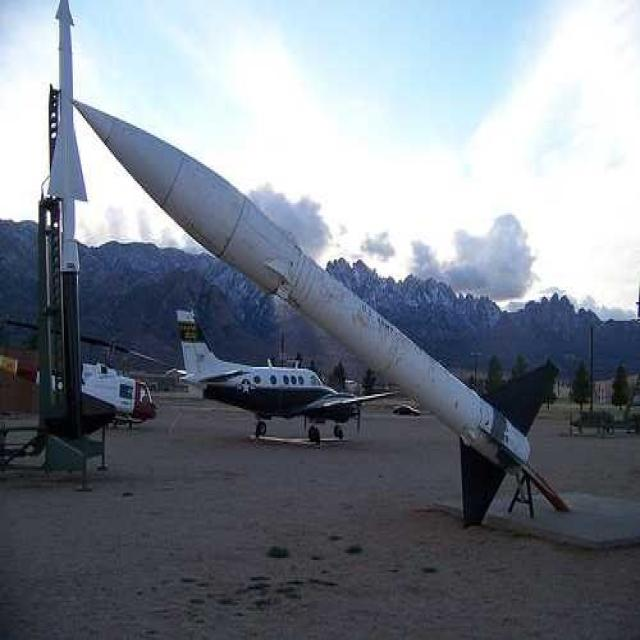missile: (67, 92, 573, 528), (50, 6, 82, 277)
